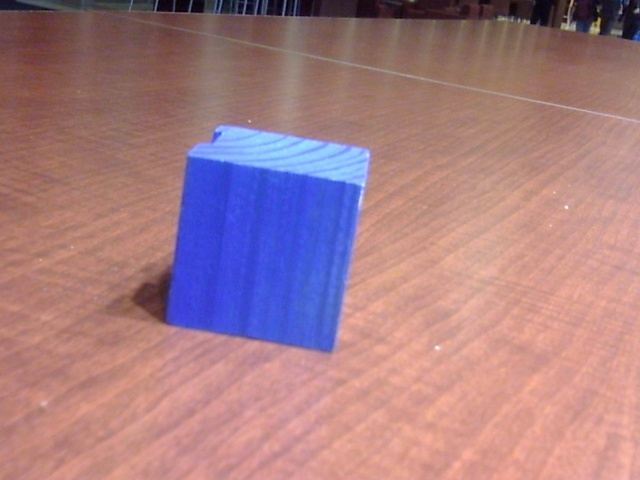BlueBlock: (164, 124, 372, 355)
